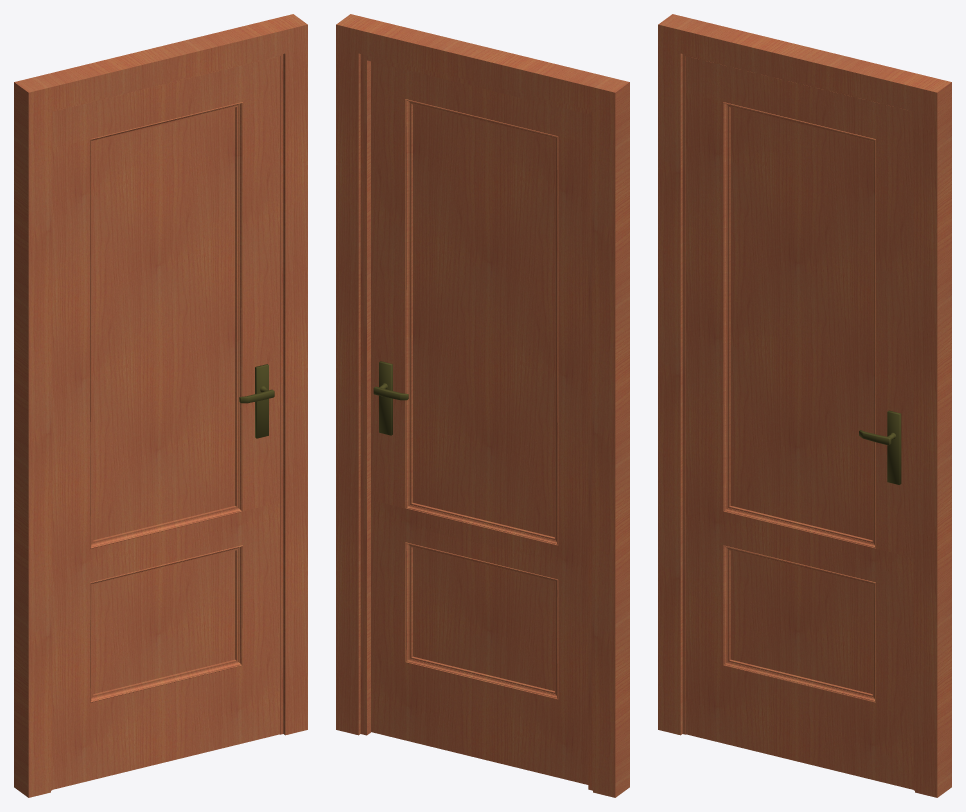
The model's file is puerta.obj.
The picture shows the model from 3 angles, left to right: view 1: azimuth 30°, elevation 25°; view 2: azimuth 150°, elevation 25°; view 3: azimuth 330°, elevation 25°; orthographic projection.
Parts seen in each view (by area): view 1: door_Mesh, marc_Cube, maneta_puerta_Plane; view 2: door_Mesh, marc_Cube, maneta_puerta_Plane; view 3: door_Mesh, marc_Cube, maneta_puerta_Plane.
Boxes of the visible parts, left/top/right/bottom form: door_Mesh: left=52, top=56, right=279, bottom=789; marc_Cube: left=14, top=14, right=307, bottom=797; maneta_puerta_Plane: left=239, top=364, right=274, bottom=438; door_Mesh: left=371, top=61, right=588, bottom=784; marc_Cube: left=336, top=14, right=629, bottom=797; maneta_puerta_Plane: left=373, top=361, right=408, bottom=435; door_Mesh: left=686, top=56, right=913, bottom=789; marc_Cube: left=658, top=14, right=951, bottom=797; maneta_puerta_Plane: left=859, top=410, right=901, bottom=484.
Bounding box in the file's own units: 87.38 × 211 × 13.81.
4 materials, 3 textured.
